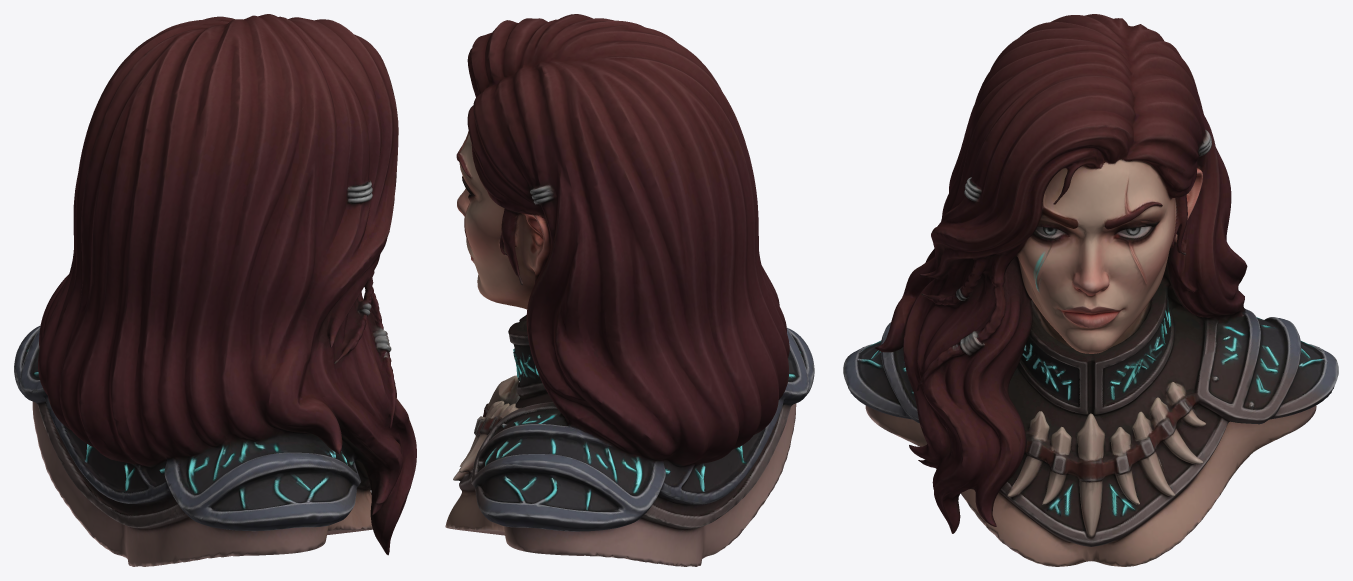
The model's file is Head_female2.glb.
3 renders of one model, left to right at view 1: azimuth 30°, elevation 25°; view 2: azimuth 150°, elevation 25°; view 3: azimuth 270°, elevation 25°, orthographic. The views are drawn at different scales.
Parts seen in each view (by area): view 1: tripo_node_7d8ac128-eb95-40b9-9f1c-f2bf601e3ce7; view 2: tripo_node_7d8ac128-eb95-40b9-9f1c-f2bf601e3ce7; view 3: tripo_node_7d8ac128-eb95-40b9-9f1c-f2bf601e3ce7.
Part boxes in pixels (x1=…): tripo_node_7d8ac128-eb95-40b9-9f1c-f2bf601e3ce7: x1=14, y1=14, x2=416, y2=566; tripo_node_7d8ac128-eb95-40b9-9f1c-f2bf601e3ce7: x1=445, y1=14, x2=814, y2=566; tripo_node_7d8ac128-eb95-40b9-9f1c-f2bf601e3ce7: x1=843, y1=14, x2=1338, y2=566.
Size of the model in its own units: 0.6282 by 0.9996 by 0.9271.
1 material, 1 textured.
